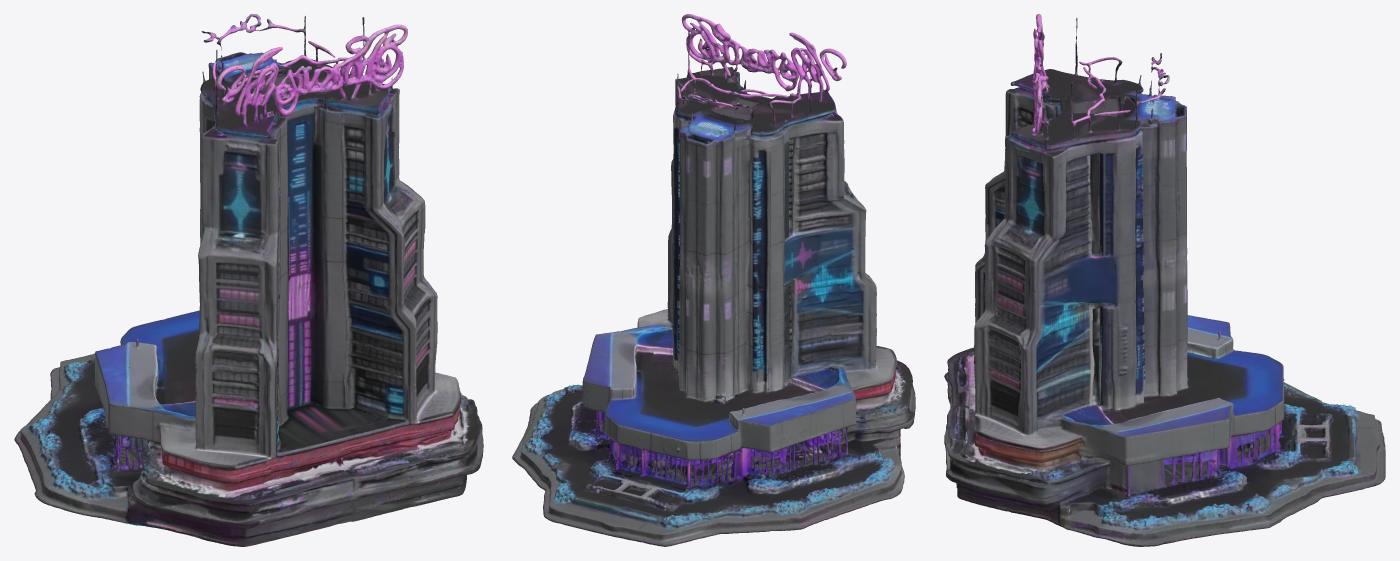
The model's file is Vibejam_HQ.glb.
The picture shows the model from 3 angles, left to right: view 1: azimuth 30°, elevation 25°; view 2: azimuth 150°, elevation 25°; view 3: azimuth 270°, elevation 25°; orthographic projection. The views are drawn at different scales.
Size of the model in its own units: 1.97 by 2 by 1.95.
1 material, 1 textured.
